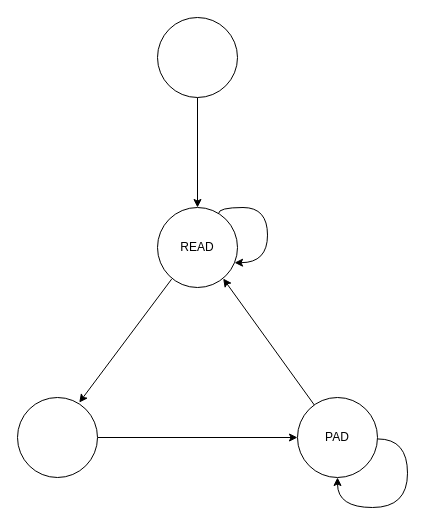
Some shapes in this 425 by 525 pixel diagram are drawn without their labels. The shapes that lost their labels are listed below. From the top down, each one's centre as x and y in pixels, then its label:
the point at 197,57: INIT
the point at 57,437: WRITE
